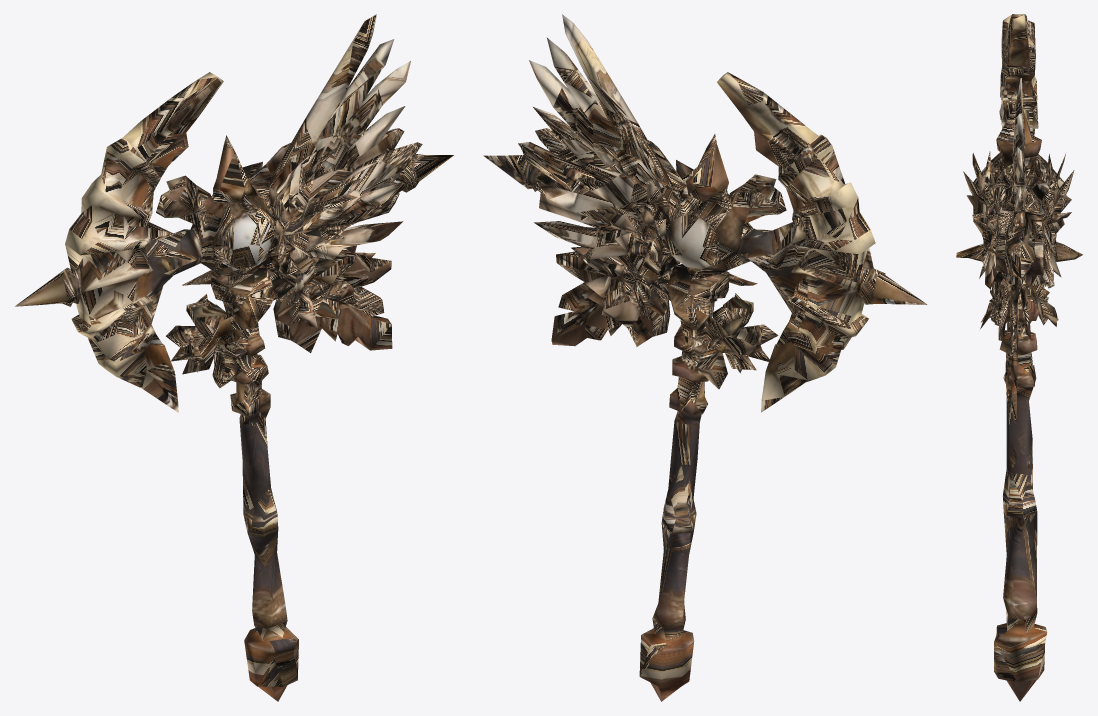
File: 481_w_mace_star.glb
3 views of the same model, side by side, from view 1: azimuth 30°, elevation 25°; view 2: azimuth 150°, elevation 25°; view 3: azimuth 270°, elevation 25° (orthographic).
Parts seen in each view (by area): view 1: Model; view 2: Model; view 3: Model.
Part boxes in pixels (x1,y1,x2,y2): Model: (15, 14, 453, 701); Model: (483, 14, 927, 701); Model: (956, 14, 1082, 701).
Bounding box in the file's own units: 0.6979 × 1 × 0.1714.
Materials: 1 (1 with a texture image).
